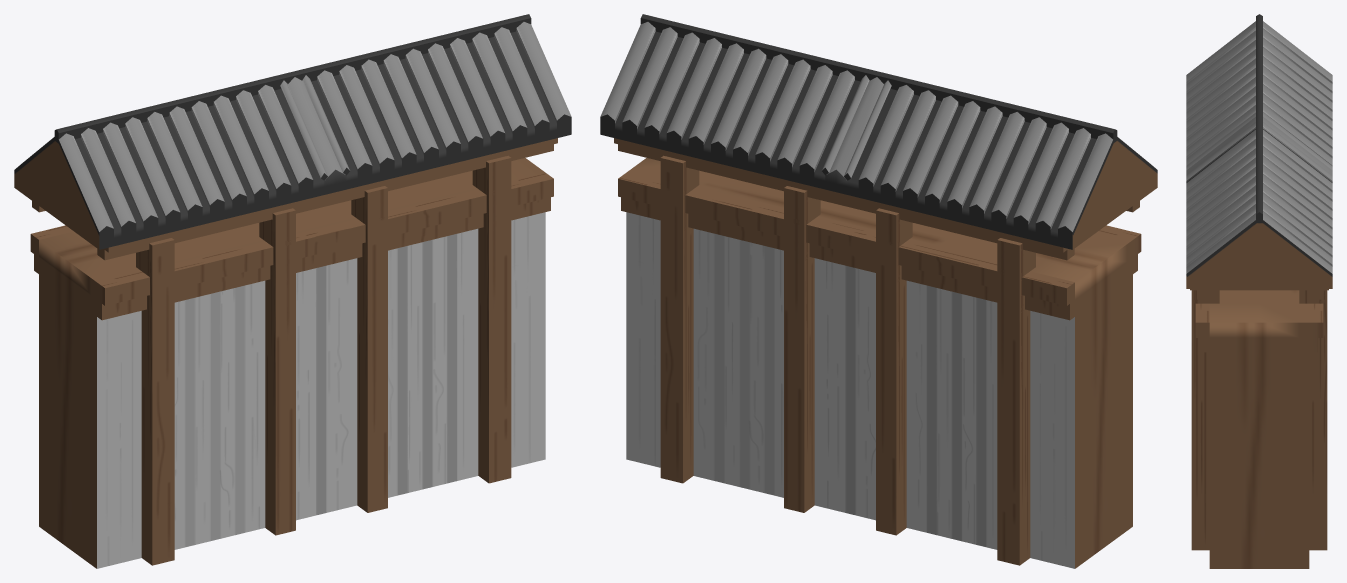
The model's file is gate_wall2 (1).fbx.
The picture shows the model from 3 angles, left to right: view 1: azimuth 30°, elevation 25°; view 2: azimuth 150°, elevation 25°; view 3: azimuth 270°, elevation 25°; orthographic projection. The views are drawn at different scales.
Visible parts, largest first — view 1: pCube3; view 2: pCube3; view 3: pCube3.
Part boxes in pixels (left/top/right/bottom): pCube3: left=14, top=14, right=571, bottom=568; pCube3: left=600, top=14, right=1157, bottom=568; pCube3: left=1186, top=14, right=1332, bottom=568.
Bounding box in the file's own units: 907 × 773 × 283.
